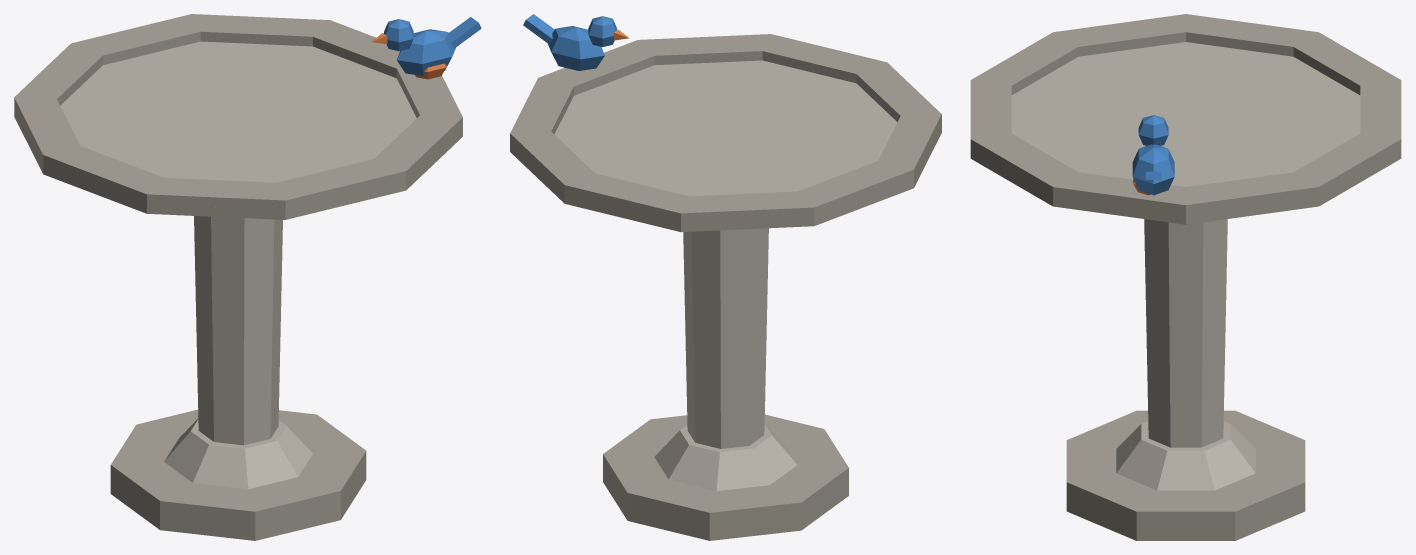
The model's file is prop_birdbath.glb.
The picture shows the model from 3 angles, left to right: view 1: azimuth 30°, elevation 25°; view 2: azimuth 150°, elevation 25°; view 3: azimuth 270°, elevation 25°; orthographic projection. The views are drawn at different scales.
Parts seen in each view (by area): view 1: prop_birdbath; view 2: prop_birdbath; view 3: prop_birdbath.
Boxes of the visible parts, box(x1,y1,x2,y2) form: prop_birdbath: box(14, 14, 481, 540); prop_birdbath: box(510, 14, 941, 540); prop_birdbath: box(970, 14, 1401, 540).
Bounding box in the file's own units: 0.8994 × 0.912 × 0.8.
